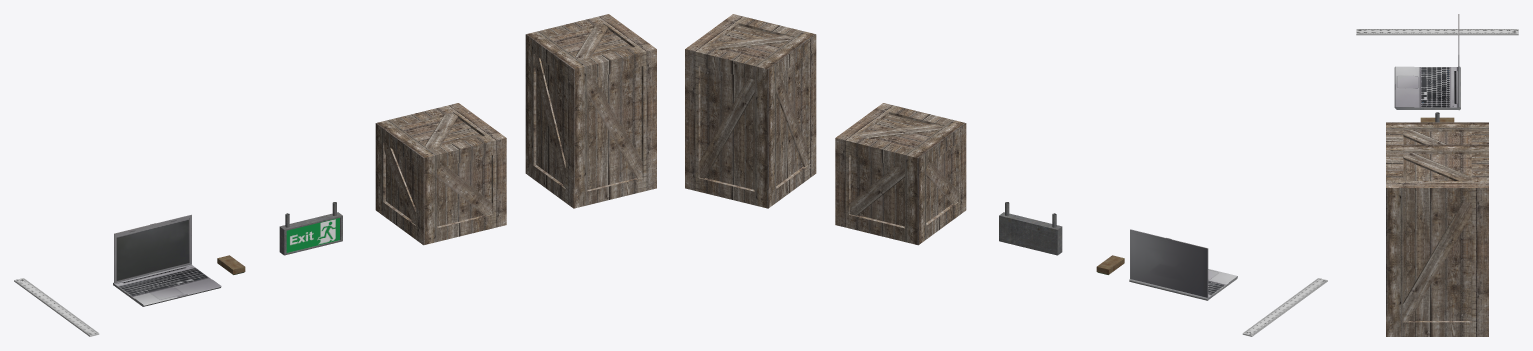
Rendered from SmallStuff.fbx.
3 renders of one model, left to right at view 1: azimuth 30°, elevation 25°; view 2: azimuth 150°, elevation 25°; view 3: azimuth 270°, elevation 25°, orthographic. The views are drawn at different scales.
Parts seen in each view (by area): view 1: polySurface7, polySurface6, polySurface8, polySurface5, polySurface1; view 2: polySurface7, polySurface6, polySurface8, polySurface5, polySurface1; view 3: polySurface7, polySurface8, polySurface6, polySurface1, pCube4.
Part boxes in pixels (x1,y1,x2,y2): polySurface7: (525, 14, 656, 208); polySurface6: (375, 103, 506, 245); polySurface8: (113, 214, 221, 306); polySurface5: (279, 202, 342, 255); polySurface1: (14, 278, 99, 336); polySurface7: (685, 14, 816, 208); polySurface6: (835, 103, 966, 245); polySurface8: (1129, 229, 1237, 300); polySurface5: (999, 202, 1062, 255); polySurface1: (1242, 278, 1327, 336); polySurface7: (1386, 144, 1488, 336); polySurface8: (1394, 14, 1460, 110); polySurface6: (1386, 122, 1488, 144); polySurface1: (1356, 29, 1518, 35); pCube4: (1420, 117, 1454, 122).
Size of the model in its own units: 67.79 by 15.53 by 15.33.
